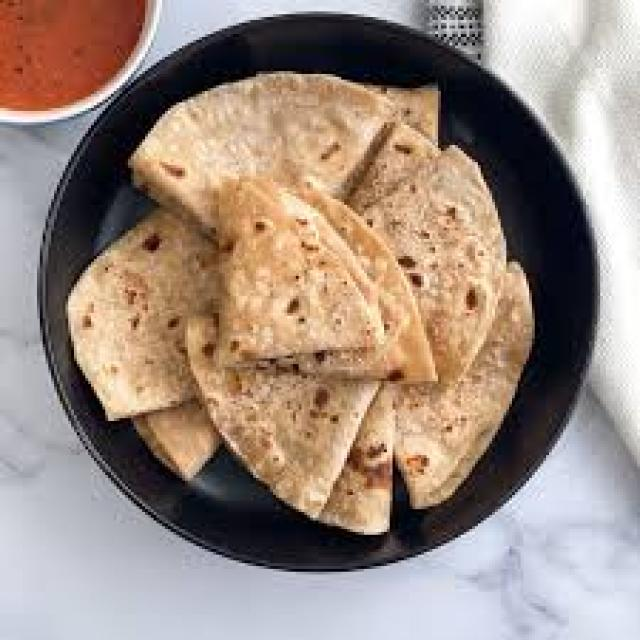ROTI: (131, 74, 395, 225), (191, 319, 375, 518), (222, 179, 393, 370), (361, 148, 503, 378), (395, 270, 532, 506), (68, 213, 213, 418), (319, 384, 390, 532), (137, 398, 219, 478)
